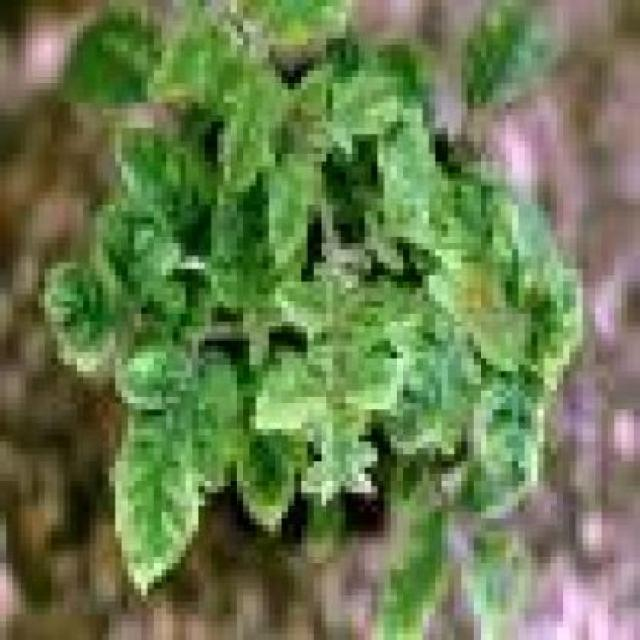Healthy Leaf: (109, 340, 231, 608), (385, 308, 500, 474), (109, 122, 211, 276), (468, 352, 569, 506), (218, 64, 296, 204), (251, 352, 334, 454), (378, 109, 449, 225), (320, 65, 403, 160), (334, 340, 411, 429)
